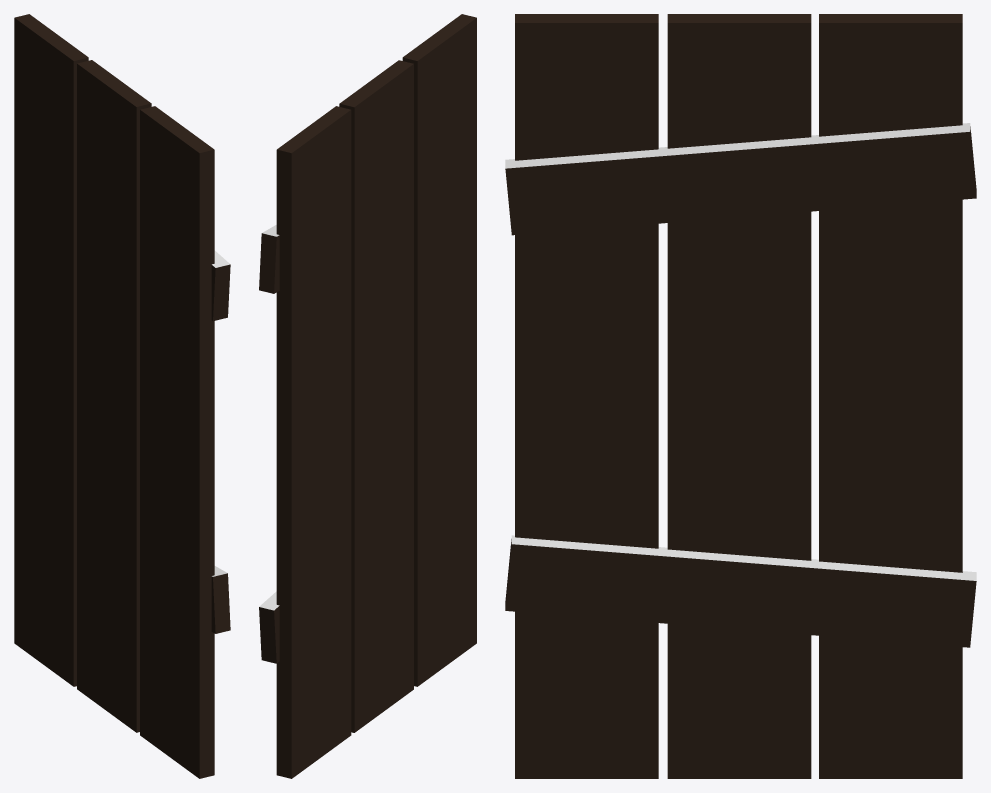
Rendered from door.FBX.
The picture shows the model from 3 angles, left to right: view 1: azimuth 30°, elevation 25°; view 2: azimuth 150°, elevation 25°; view 3: azimuth 270°, elevation 25°; orthographic projection. The views are drawn at different scales.
Visible parts, largest first — view 1: door; view 2: door; view 3: door.
Boxes of the visible parts, bbox=[...] form: door: bbox=[14, 14, 230, 778]; door: bbox=[259, 14, 476, 778]; door: bbox=[505, 14, 976, 778].
Size of the model in its own units: 5.02 by 111 by 62.73.
